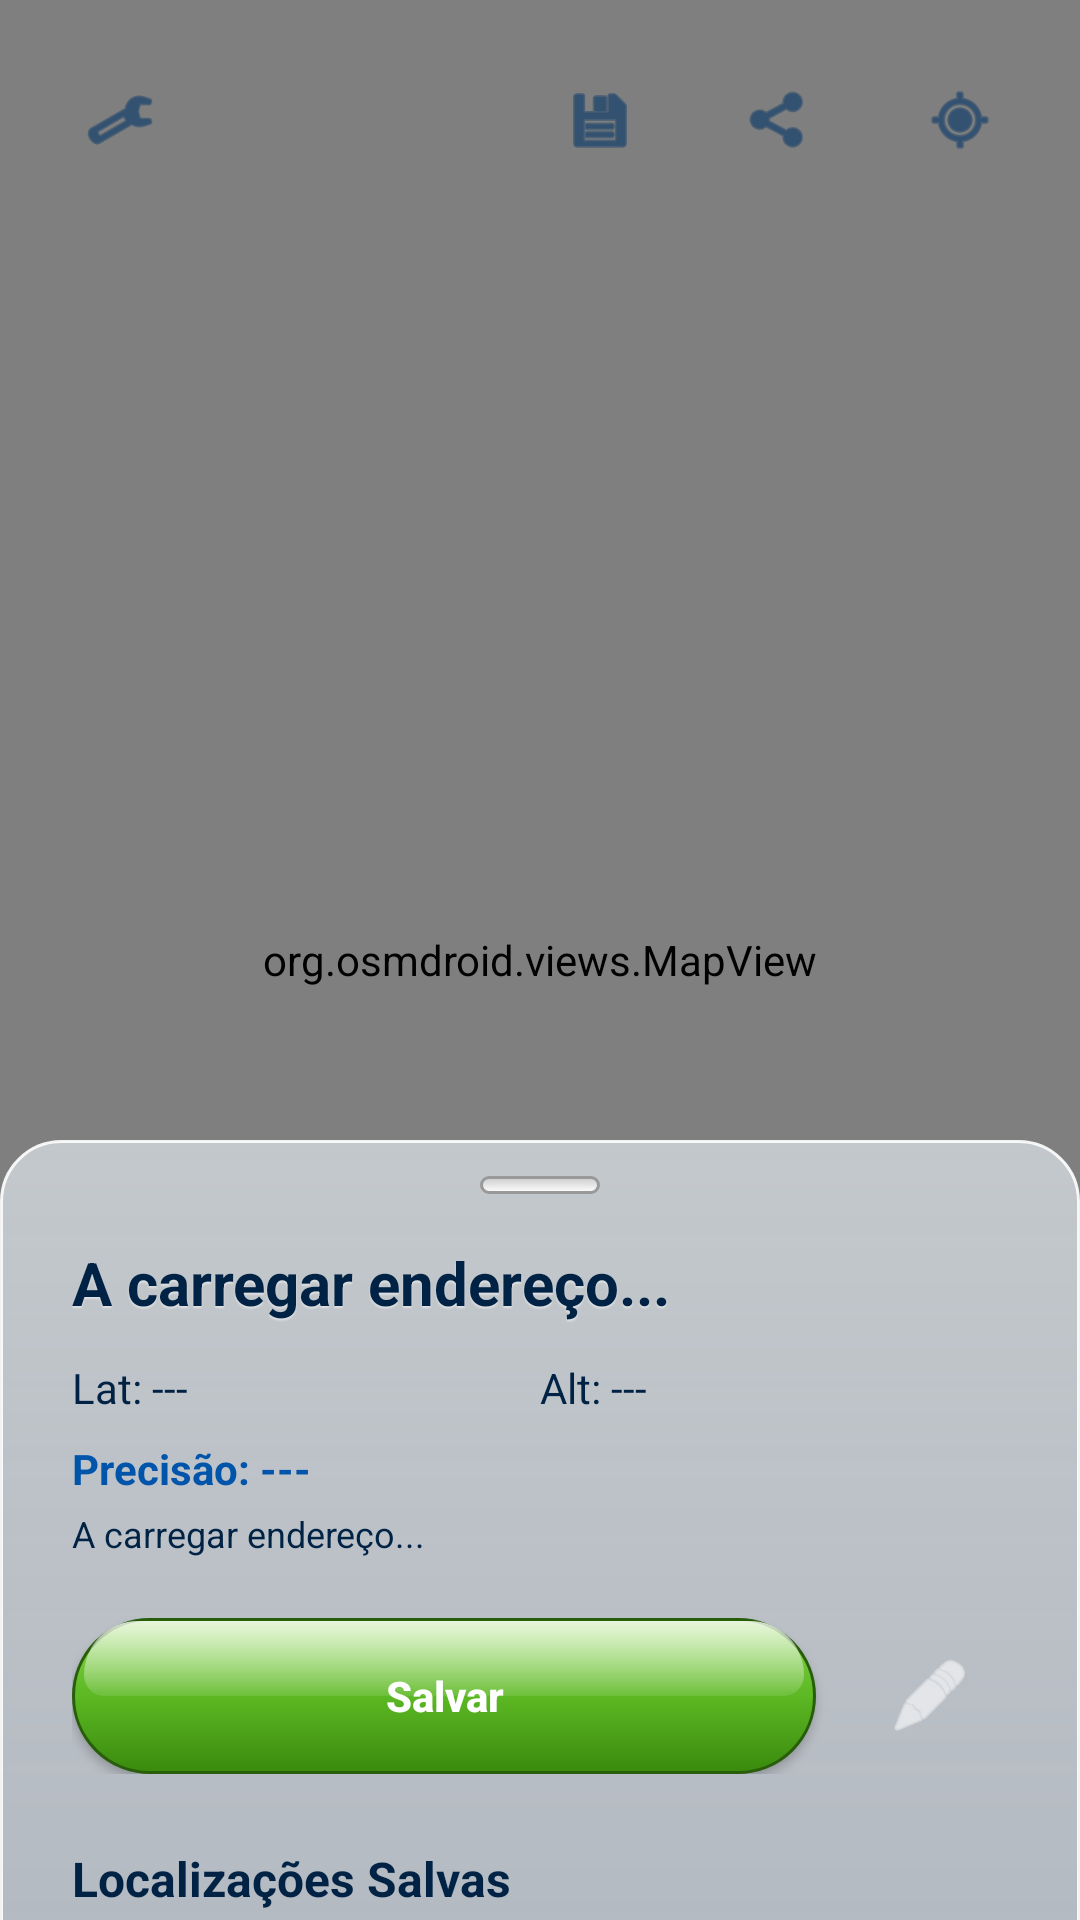

Screen size 1080 × 1920. Icon name, then its box in pixels as (x1, y1, x2, y2):
Centralizar Localização: (931, 91, 989, 149)
Configurações: (88, 95, 152, 145)
edit: (895, 1660, 965, 1730)
